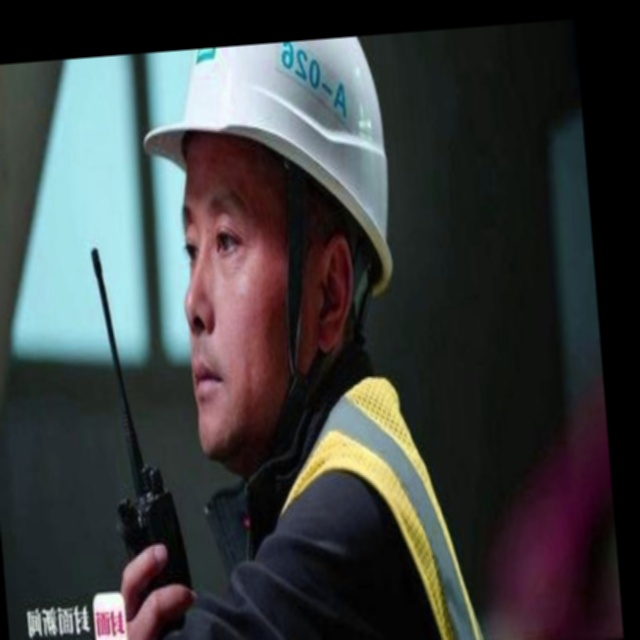Con_Casco: (159, 35, 412, 443)
Con_Chaleco: (261, 367, 489, 640)
